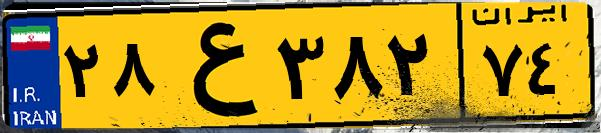2: (385, 28, 445, 110), (57, 26, 110, 100)
3: (270, 28, 330, 110)
4: (525, 38, 570, 115)
7: (475, 38, 525, 113)
8: (330, 28, 385, 110), (110, 28, 158, 98)
ع: (158, 12, 270, 120)
